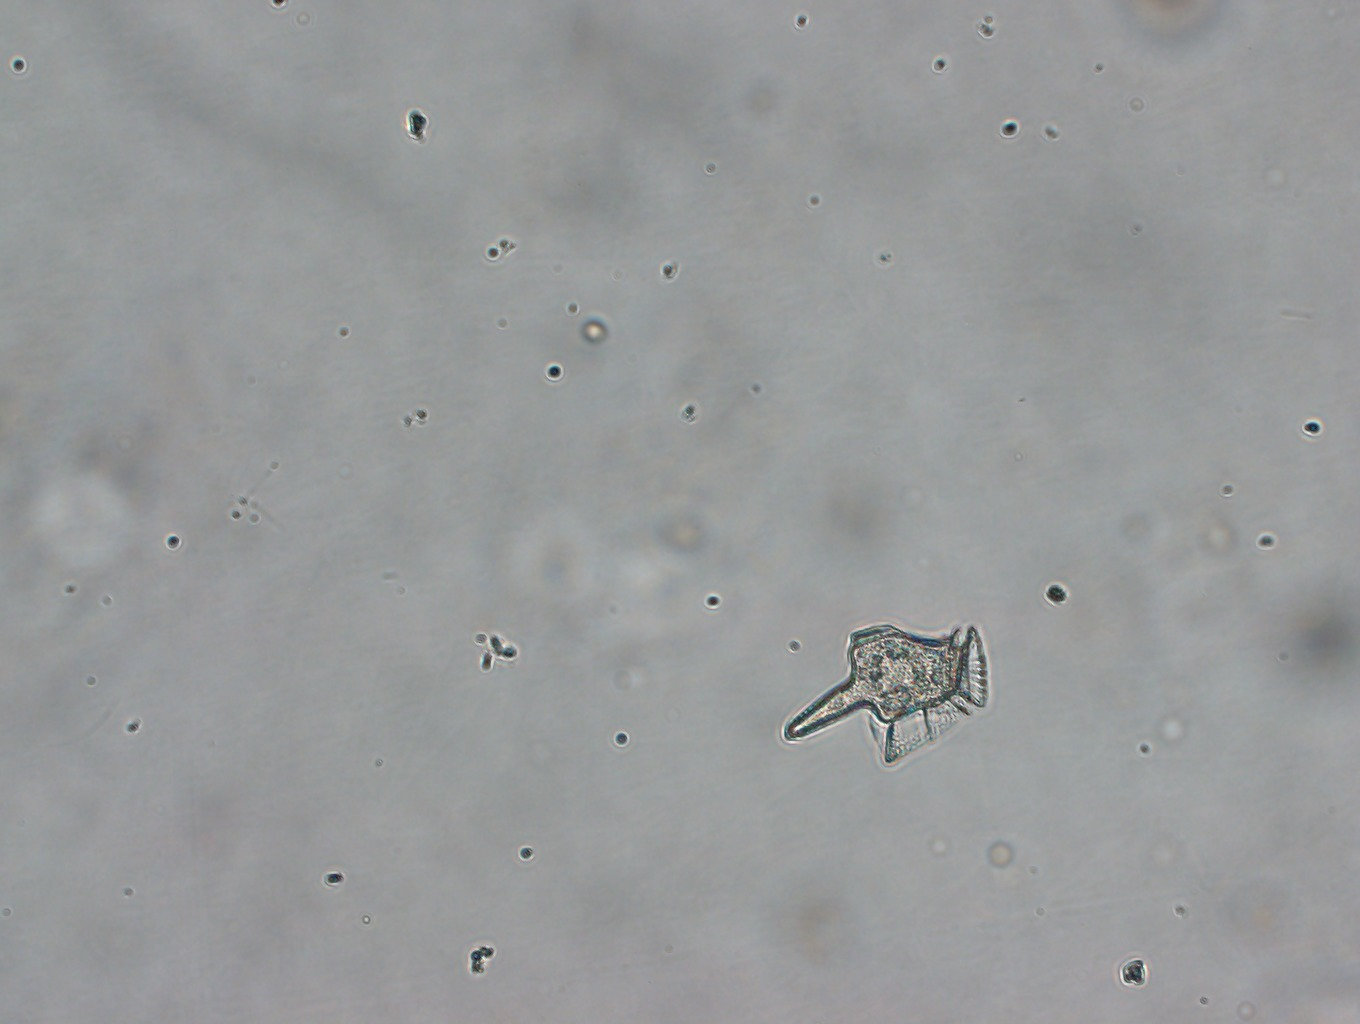dinophysis caudata: (778, 612, 1010, 772)
